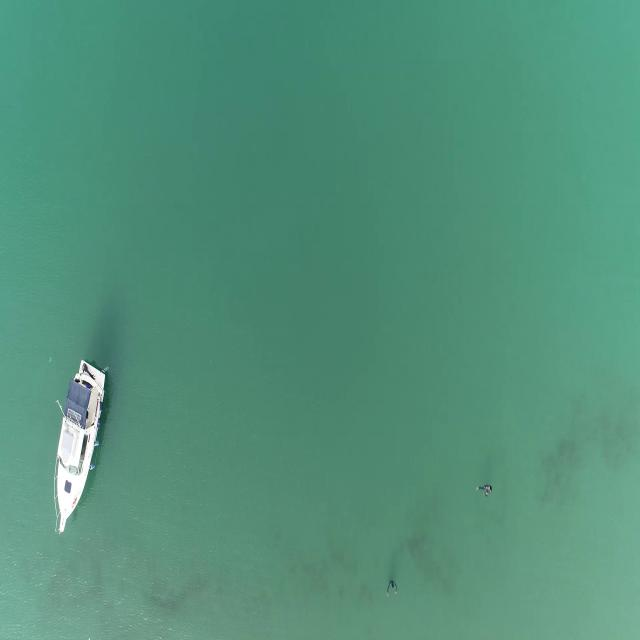boat: (50, 359, 110, 533)
person: (477, 478, 493, 502), (385, 578, 398, 600)
